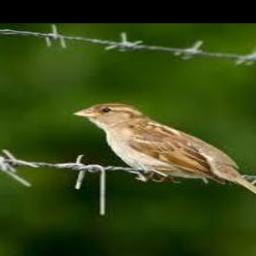Sparrow: (72, 102, 256, 207)
